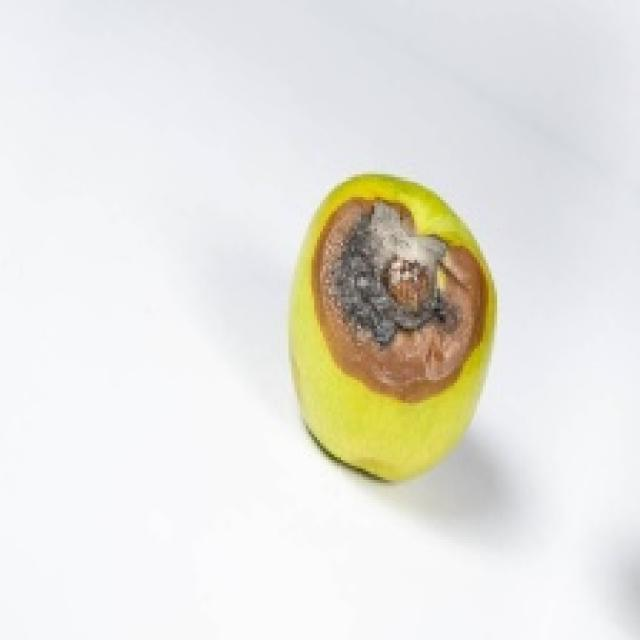rotten_apple: (292, 174, 493, 475)
